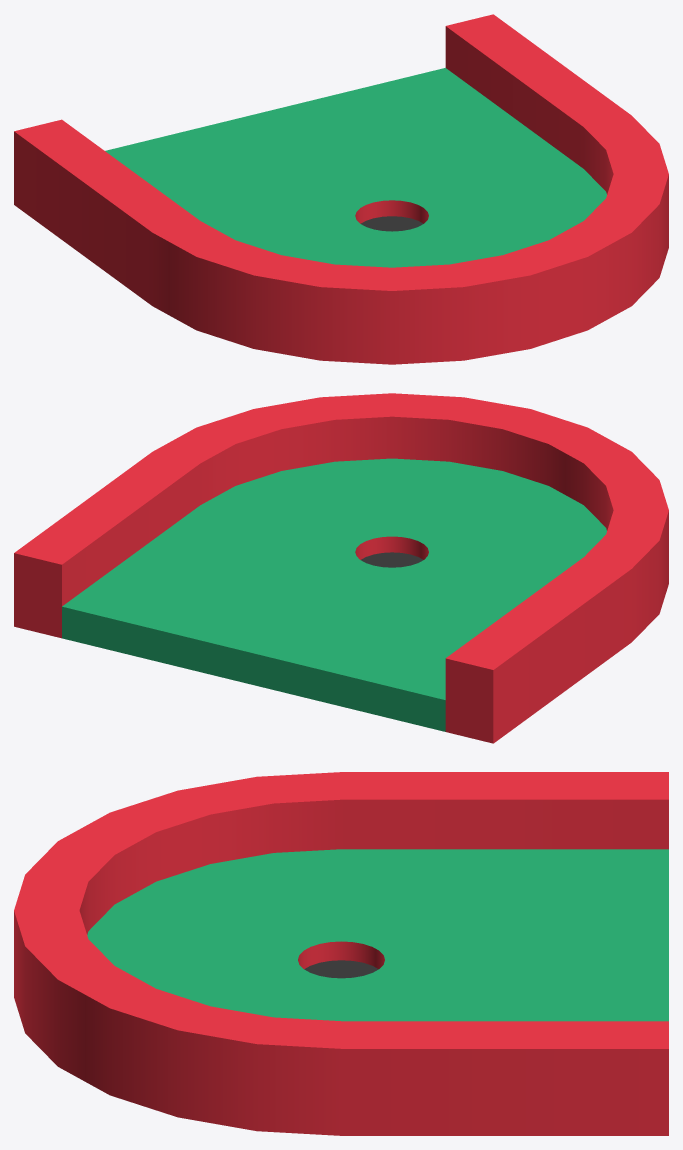
The model's file is holeRound.fbx.
The picture shows the model from 3 angles, top to bottom: view 1: azimuth 30°, elevation 25°; view 2: azimuth 150°, elevation 25°; view 3: azimuth 270°, elevation 25°; orthographic projection. The views are drawn at different scales.
Parts seen in each view (by area): view 1: holeRound; view 2: holeRound; view 3: holeRound.
Part boxes in pixels (left/top/right/bottom): holeRound: left=14, top=14, right=668, bottom=364; holeRound: left=14, top=393, right=668, bottom=743; holeRound: left=14, top=772, right=668, bottom=1135.
Bounding box in the file's own units: 10 × 1.47 × 10.
